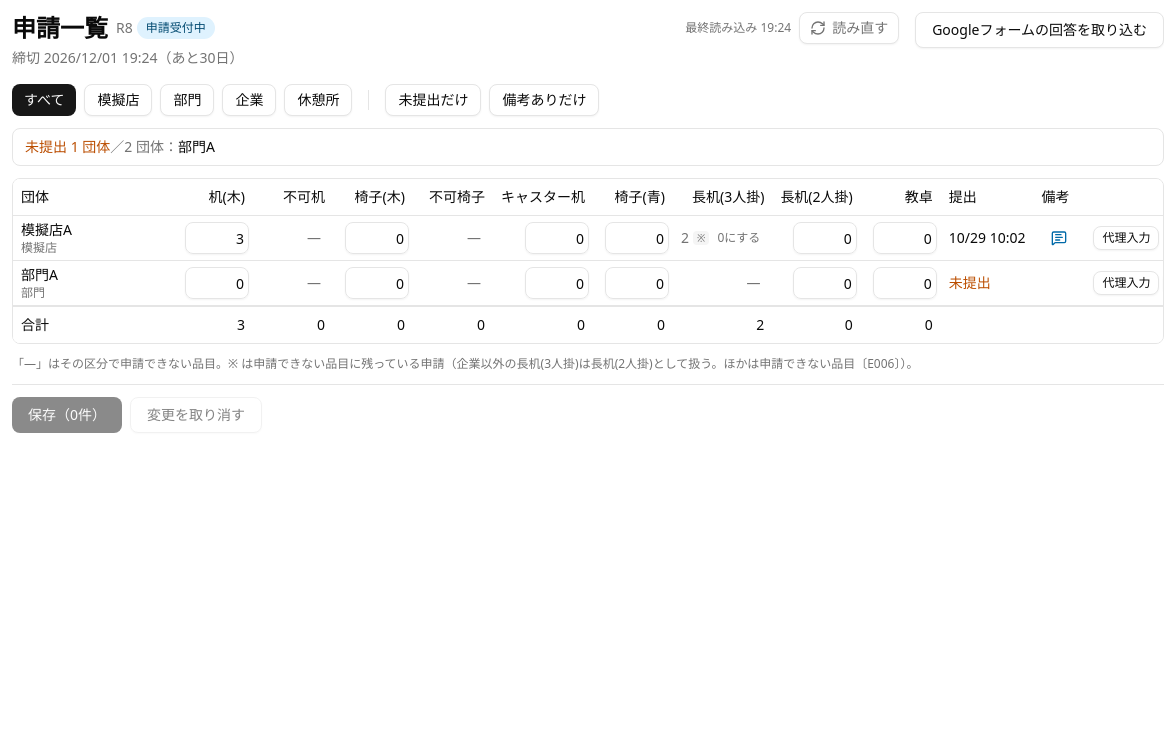
申請一覧 /requests › 締切前の直接の保存：最初の失敗が conflict でも、後の forbidden で時計のずれを判断し、conflict の数も出す
The image size is (1176, 732).
Replace the text in the field named "模擬店Aの机(木)" with "5" at (217, 238), box left=185, top=222, right=249, bottom=254
Then press Enter
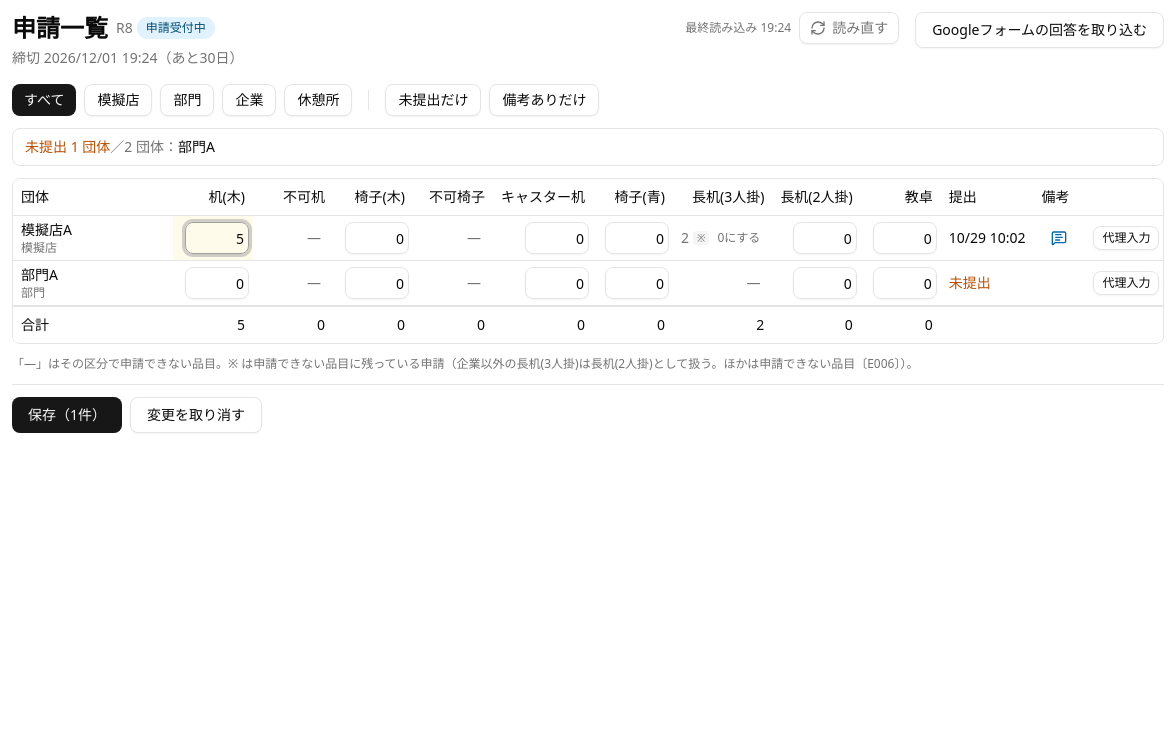
Replace the text in the field named "部門Aの椅子(木)" with "2" at (377, 283), box left=345, top=267, right=409, bottom=299
Then press Enter
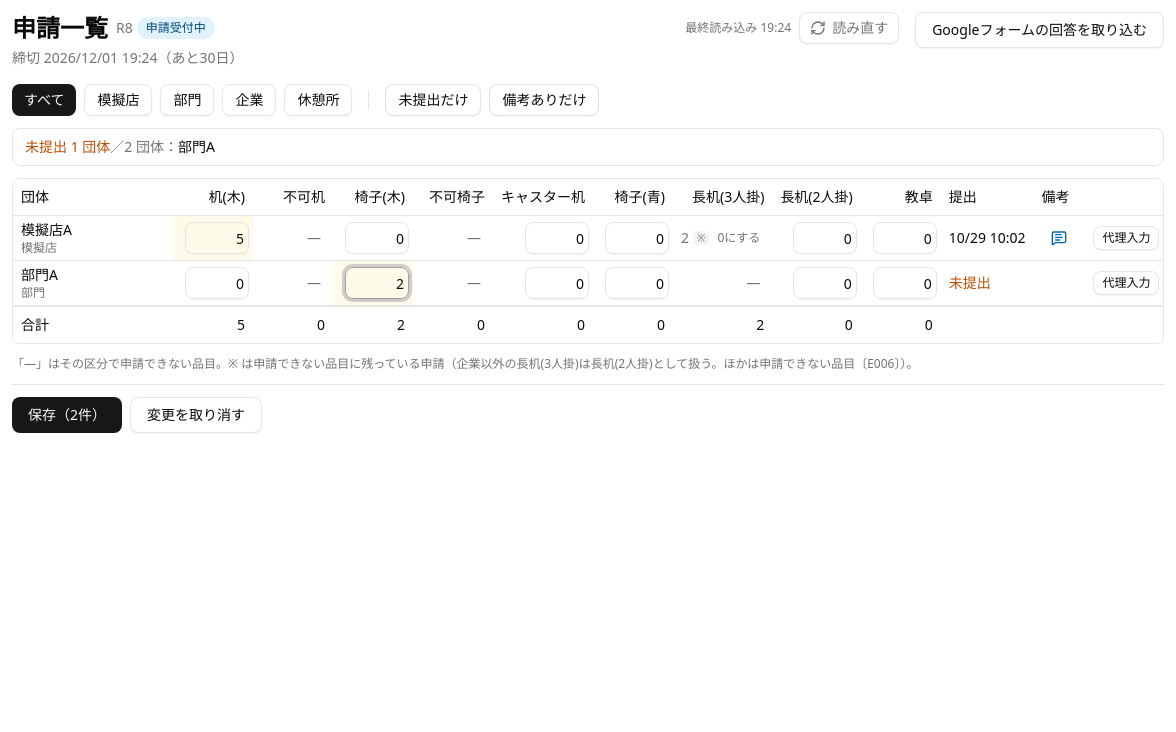
Click the button "保存（2件）" at (67, 415), box left=12, top=397, right=122, bottom=433
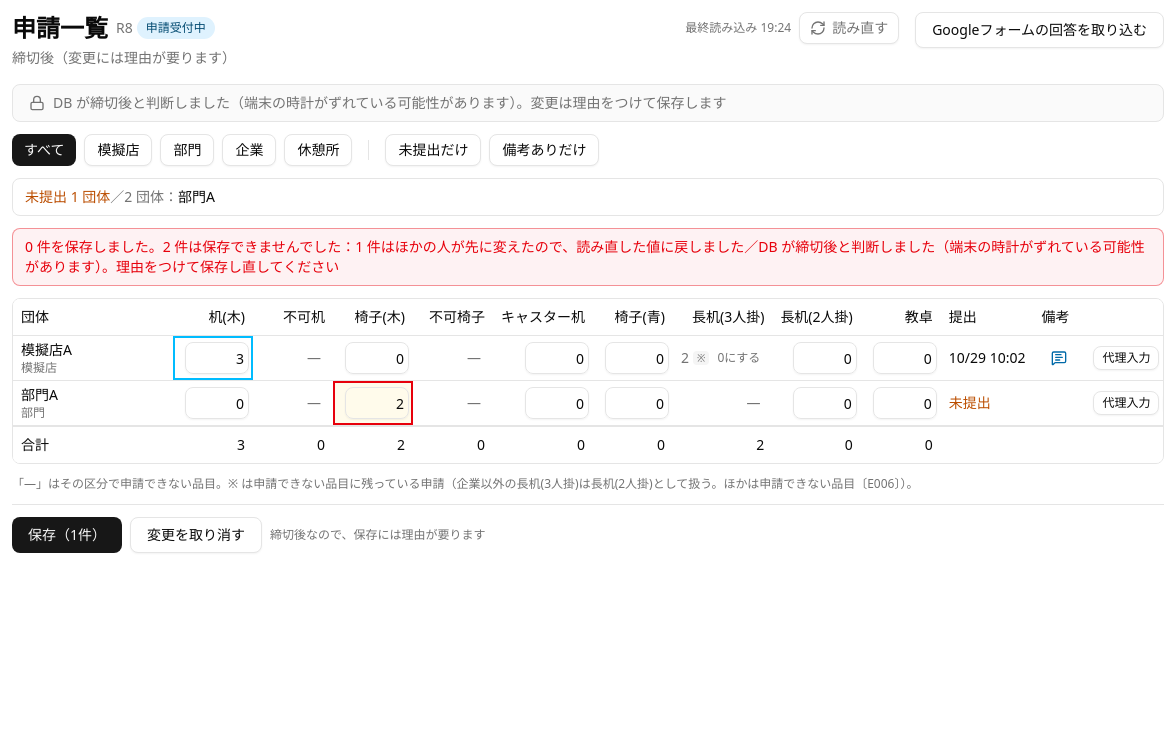
Check: the text "DB が締切後と判断しました（端末の時計がずれている可能性があります）。変更は理由をつけて保存します" is shown, box left=53, top=93, right=726, bottom=113
Check: the message with test id "save-error" shows "1 件はほかの人が先に変えたので、読み直した値に戻しました", box left=25, top=237, right=1145, bottom=276
Check: the message with test id "save-error" shows "DB が締切後と判断しました", box left=25, top=237, right=1145, bottom=276
